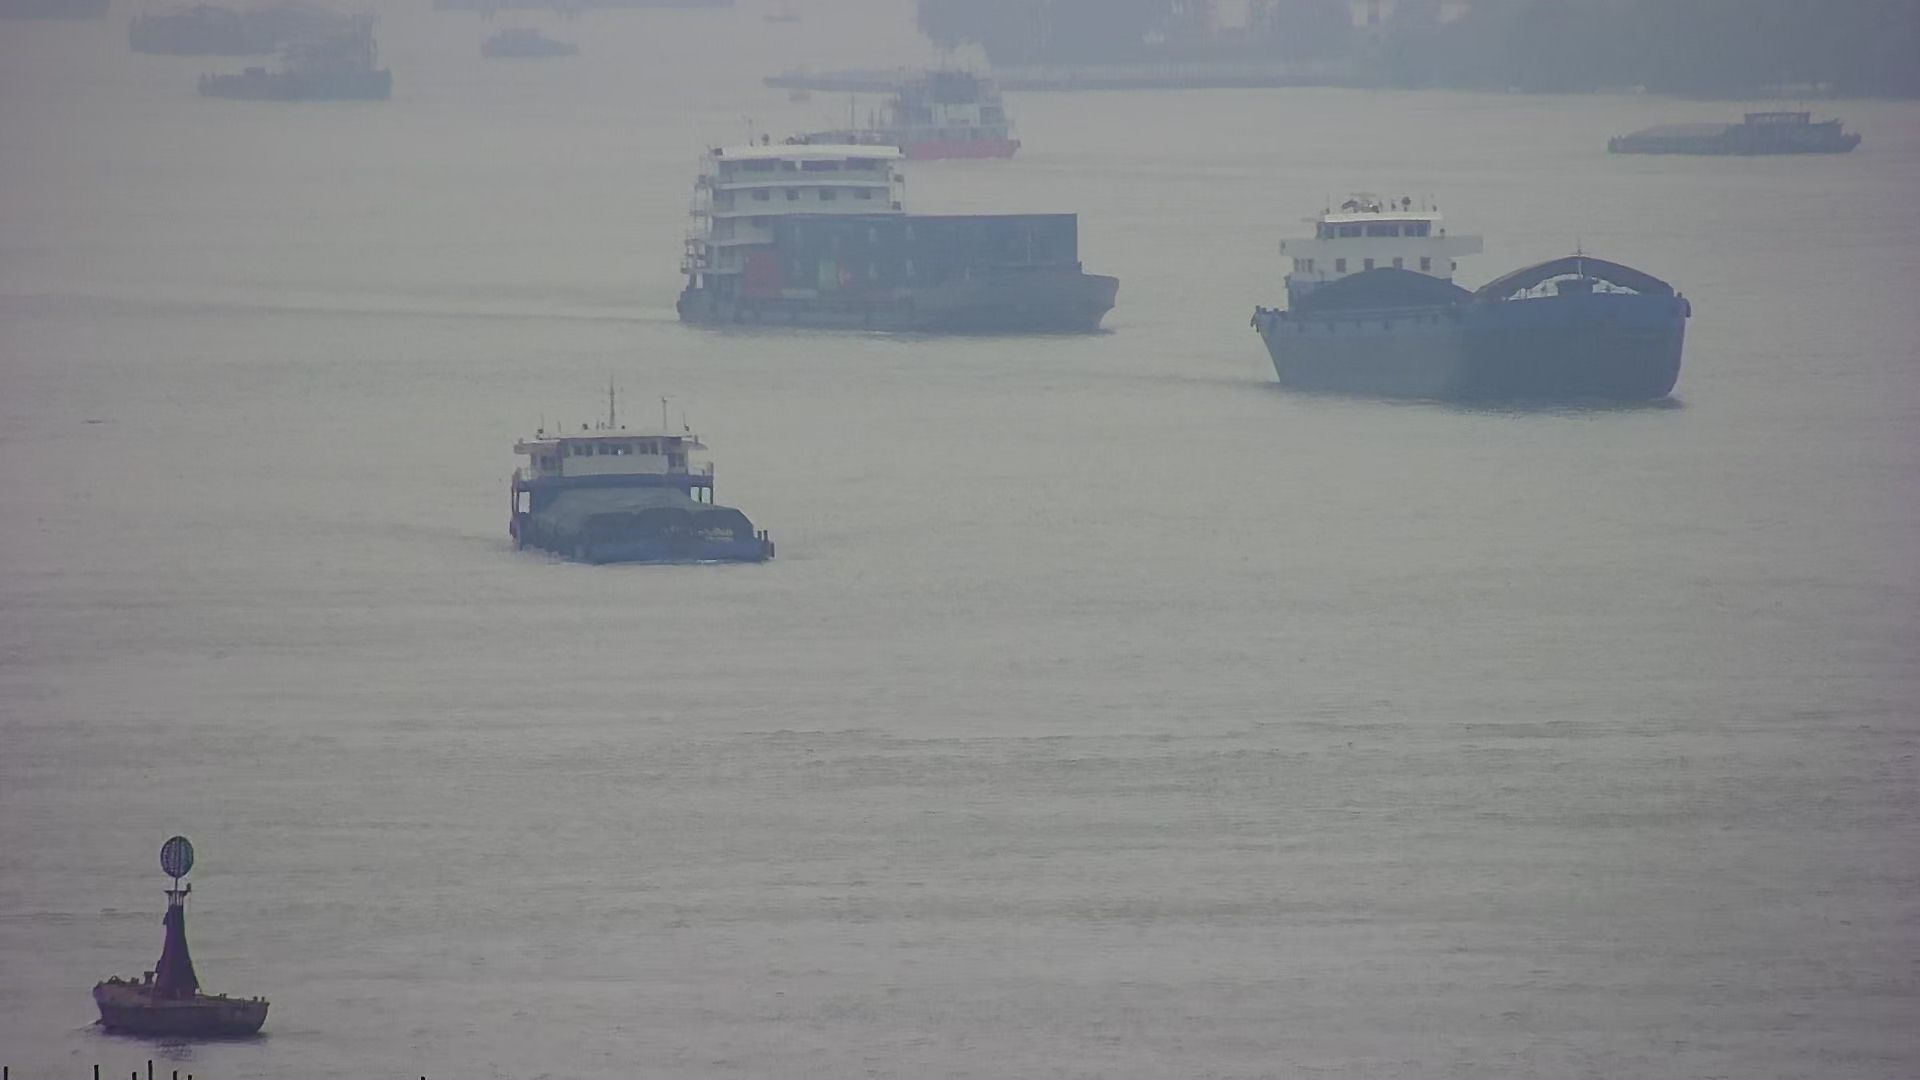boat: (90, 832, 272, 1040)
ship: (676, 137, 1120, 334), (1254, 204, 1687, 405), (506, 400, 775, 567), (733, 74, 1040, 165), (1596, 108, 1866, 152)
